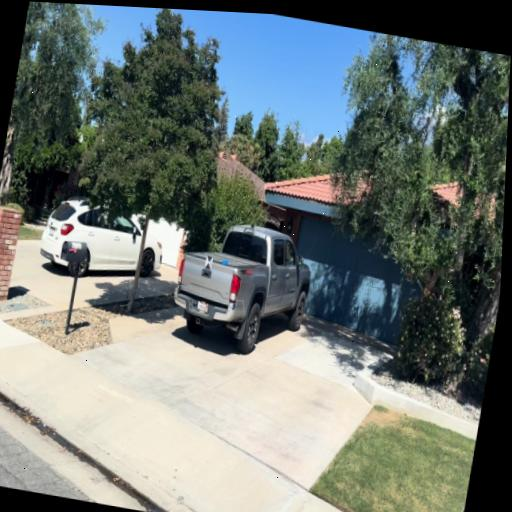target1: (205, 255, 214, 270)
